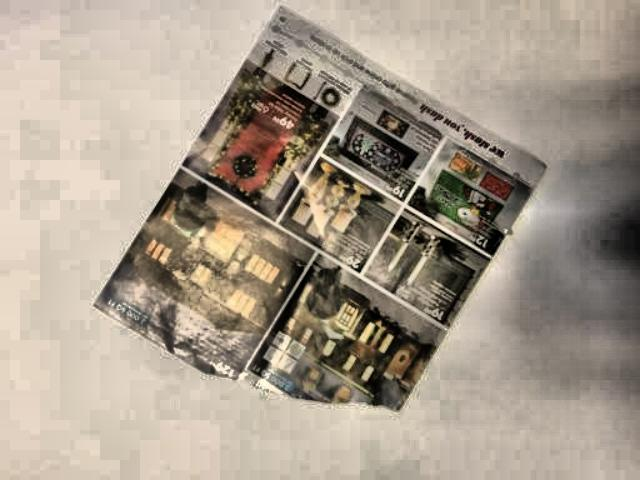Paper: (88, 1, 552, 416)
